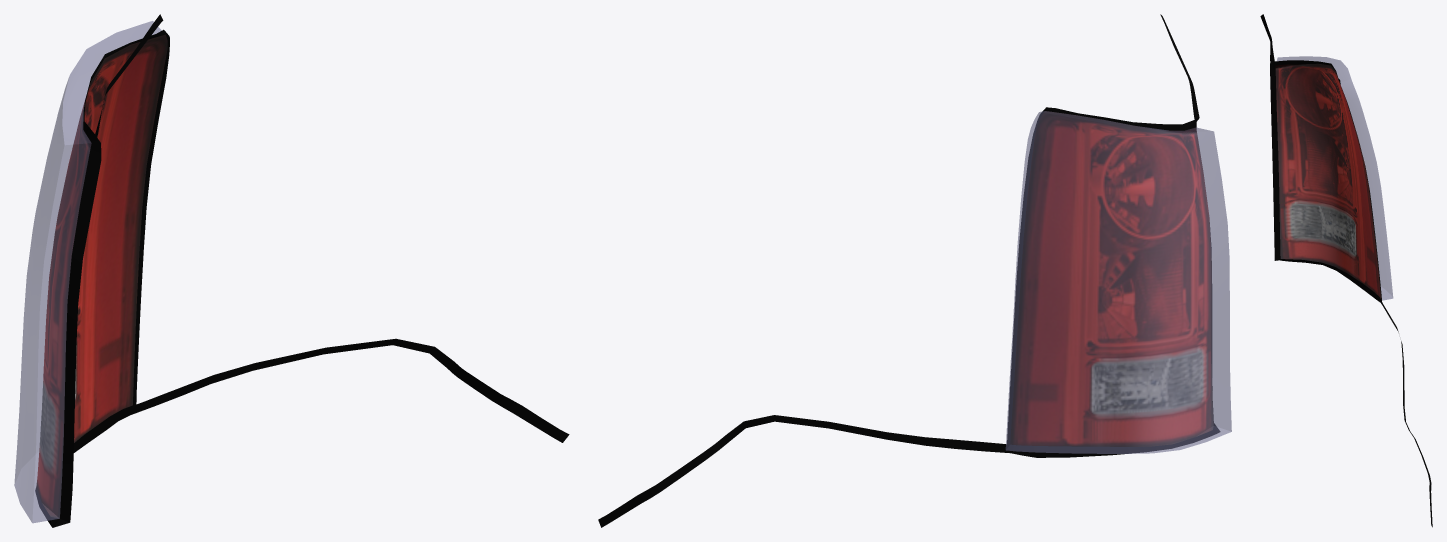
3 renders of one model, left to right at view 1: azimuth 30°, elevation 25°; view 2: azimuth 150°, elevation 25°; view 3: azimuth 270°, elevation 25°, orthographic. The views are drawn at different scales.
Parts seen in each view (by area): view 1: H713_541C_L_H713_541C_L_2_N, H713_541C_L_1_DTaSI_H713_541C_L, H713_541C_L_H713_541C_L_2_D; view 2: H713_541C_L_1_DTaSI_H713_541C_L, H713_541C_L_H713_541C_L_2_N, H713_541C_L_H713_541C_L_2_D; view 3: H713_541C_L_H713_541C_L_2_N, H713_541C_L_1_DTaSI_H713_541C_L, H713_541C_L_H713_541C_L_2_D.
Boxes of the visible parts, x1,y1,x2,y2 form: H713_541C_L_H713_541C_L_2_N: (36,34,167,518); H713_541C_L_1_DTaSI_H713_541C_L: (14,21,161,523); H713_541C_L_H713_541C_L_2_D: (35,14,569,527); H713_541C_L_1_DTaSI_H713_541C_L: (1005,111,1231,453); H713_541C_L_H713_541C_L_2_N: (1010,111,1213,446); H713_541C_L_H713_541C_L_2_D: (598,14,1220,527); H713_541C_L_H713_541C_L_2_N: (1275,63,1381,299); H713_541C_L_1_DTaSI_H713_541C_L: (1277,56,1393,300); H713_541C_L_H713_541C_L_2_D: (1260,14,1432,527).
Size of the model in its own units: 66.98 by 64.54 by 27.49.
